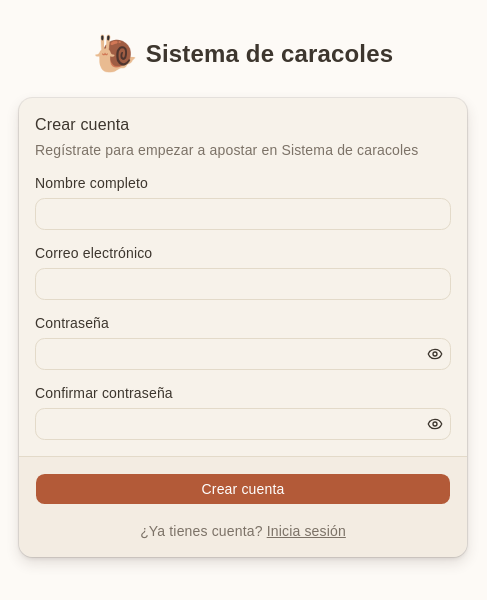
RegisterPage › debe mostrar un error si las contraseñas no coinciden
The width and height of the screenshot is (487, 600).
Type "Usuario" into the field labelled "Nombre completo" at point(243, 214), box [35,198,451,230]
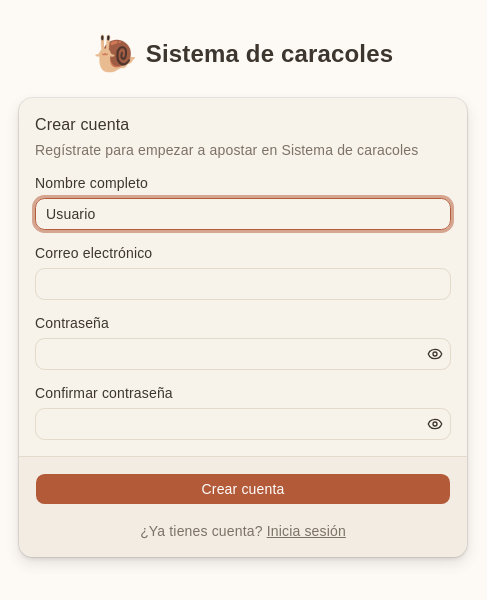
Type "usuario@test.com" into the field labelled "Correo electrónico" at point(243, 284), box [35,268,451,300]
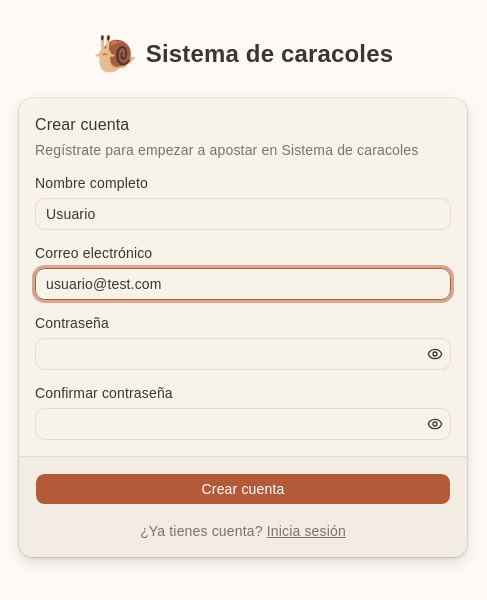
Type "password123" into the password field labelled "Contraseña" at point(243, 354), box [35,338,451,370]
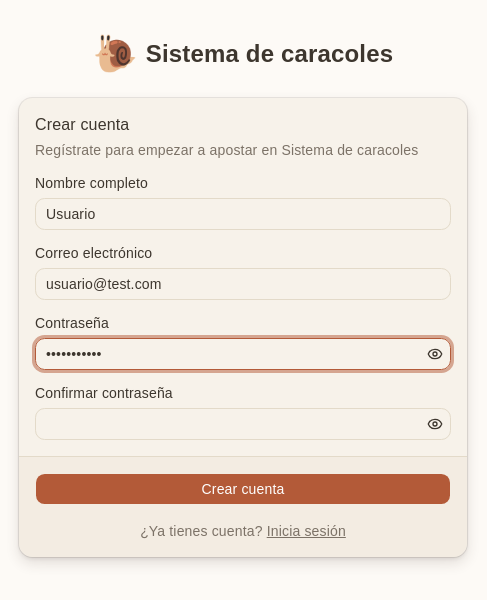
Type "otrapassword" into the password field labelled "Confirmar contraseña" at point(243, 424), box [35,408,451,440]
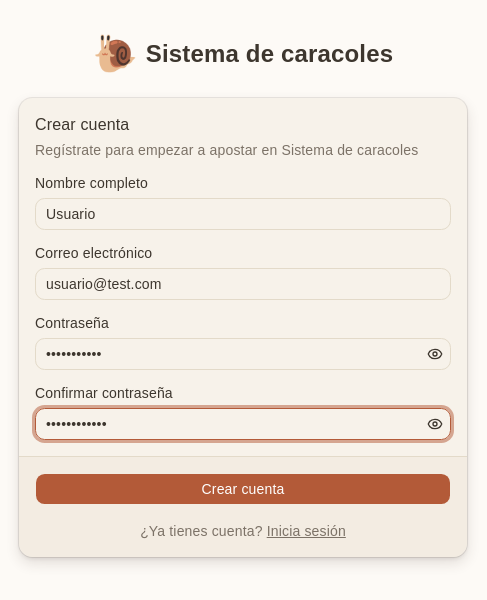
Click the button "Crear cuenta" at point(243, 488), box [35,472,451,504]
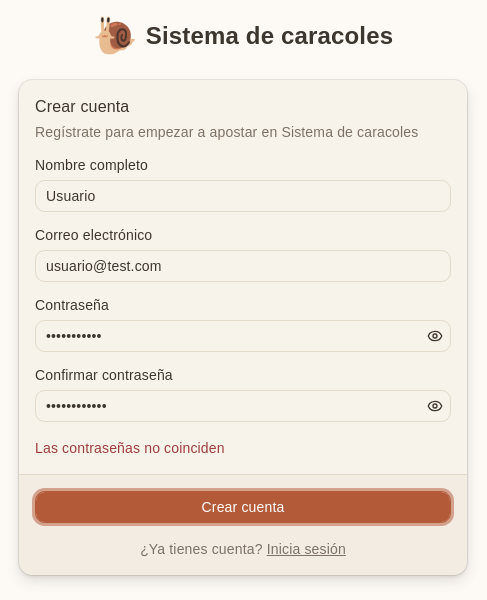
Now the text "Las contraseñas no coinciden" is shown, box [35,440,225,456]
